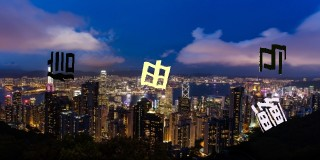信: (45, 50, 77, 81)
由: (140, 56, 171, 91)
缰: (251, 94, 288, 132)
马: (258, 41, 287, 75)
